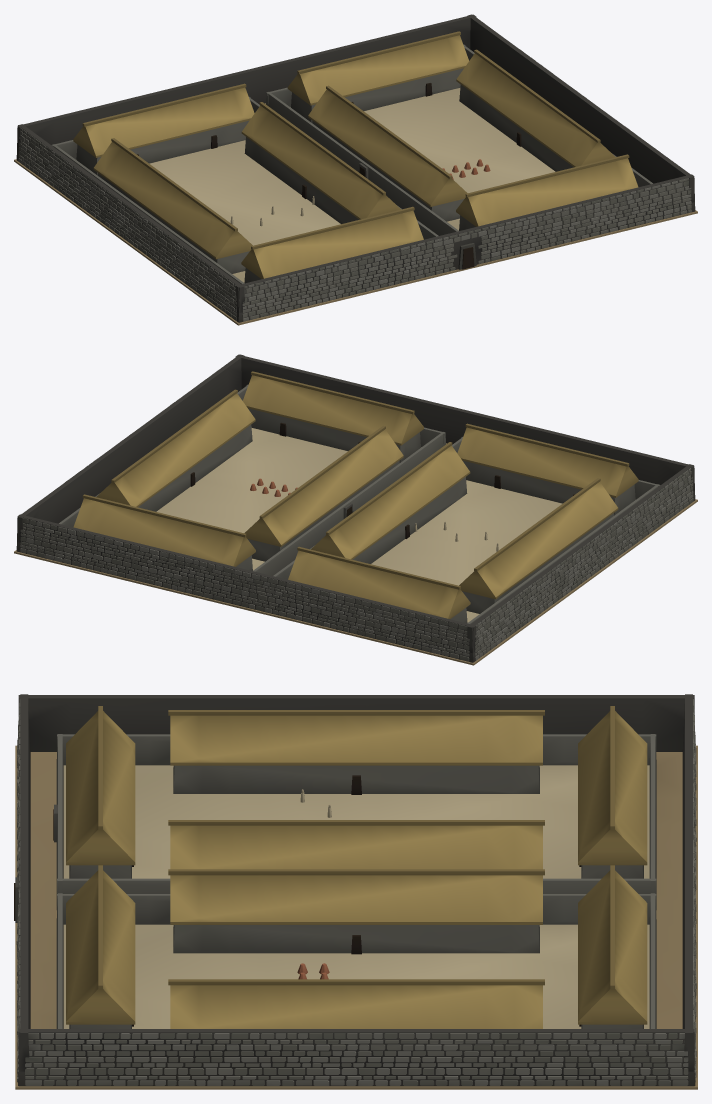
File: aqllawasi.glb
3 views of the same model, one above another, from view 1: azimuth 30°, elevation 25°; view 2: azimuth 150°, elevation 25°; view 3: azimuth 270°, elevation 25° (orthographic). The views are drawn at different scales.
Visible parts, largest first — view 1: p1_walls, p2_roofs, p0_ground; view 2: p1_walls, p2_roofs, p0_ground; view 3: p1_walls, p2_roofs, p0_ground.
Boxes of the visible parts, x1,y1,x2,y2 form: p1_walls: (16, 14, 695, 322); p2_roofs: (73, 31, 638, 278); p0_ground: (14, 103, 697, 325); p1_walls: (16, 354, 695, 662); p2_roofs: (73, 371, 638, 618); p0_ground: (14, 443, 697, 665); p1_walls: (14, 694, 696, 1086); p2_roofs: (66, 706, 647, 1028); p0_ground: (15, 745, 697, 1089).
Bounding box in the file's own units: 90 × 8.99 × 76.15.
